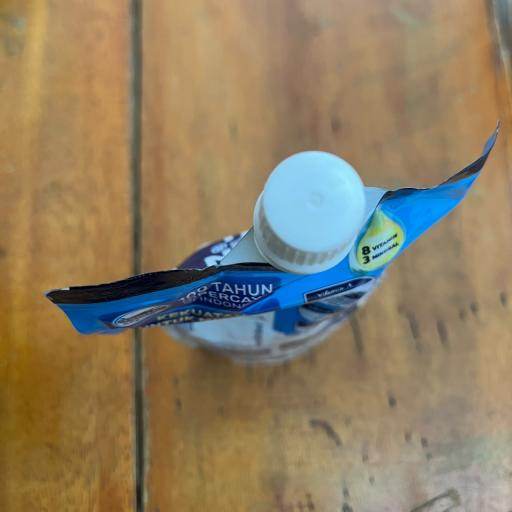Frisian Flag Kental Manis: (38, 122, 500, 372)
